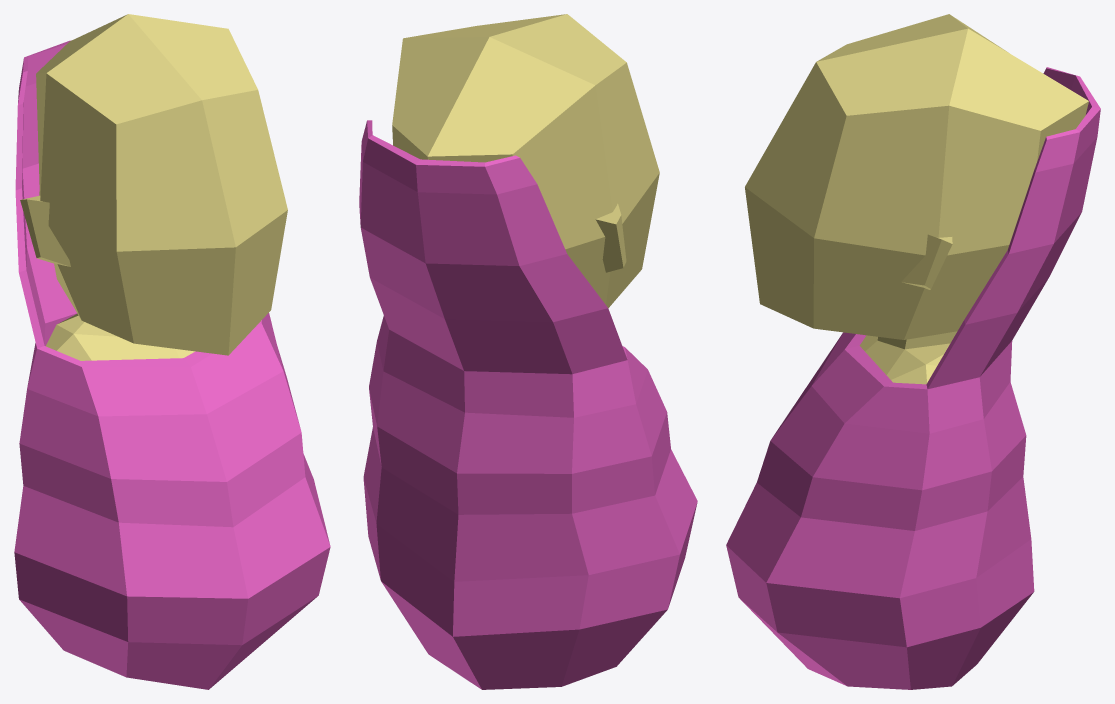
Rendered from baby.fbx.
3 renders of one model, left to right at view 1: azimuth 30°, elevation 25°; view 2: azimuth 150°, elevation 25°; view 3: azimuth 270°, elevation 25°, orthographic. The views are drawn at different scales.
Visible parts, largest first — view 1: man-swimming.007; view 2: man-swimming.007; view 3: man-swimming.007.
Part boxes in pixels (x1,y1,x2,y2): man-swimming.007: [14, 14, 330, 689]; man-swimming.007: [359, 14, 697, 689]; man-swimming.007: [726, 14, 1100, 689].
Size of the model in its own units: 18.6 by 36.79 by 19.55.
